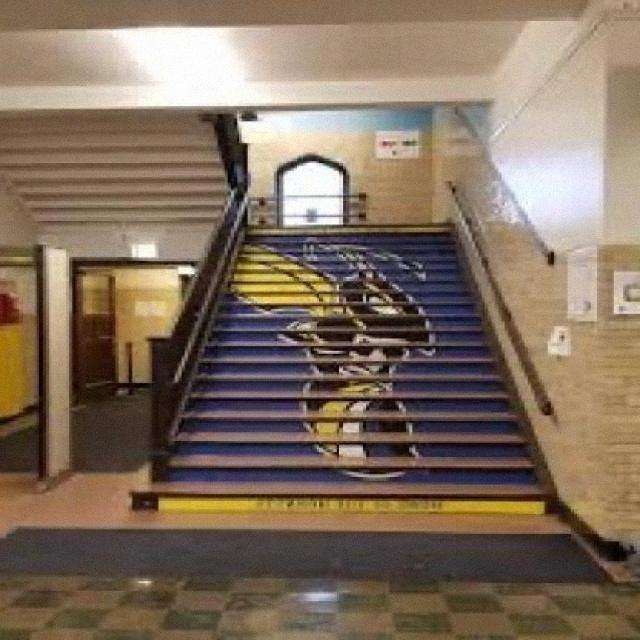stair: (254, 223, 497, 517)
